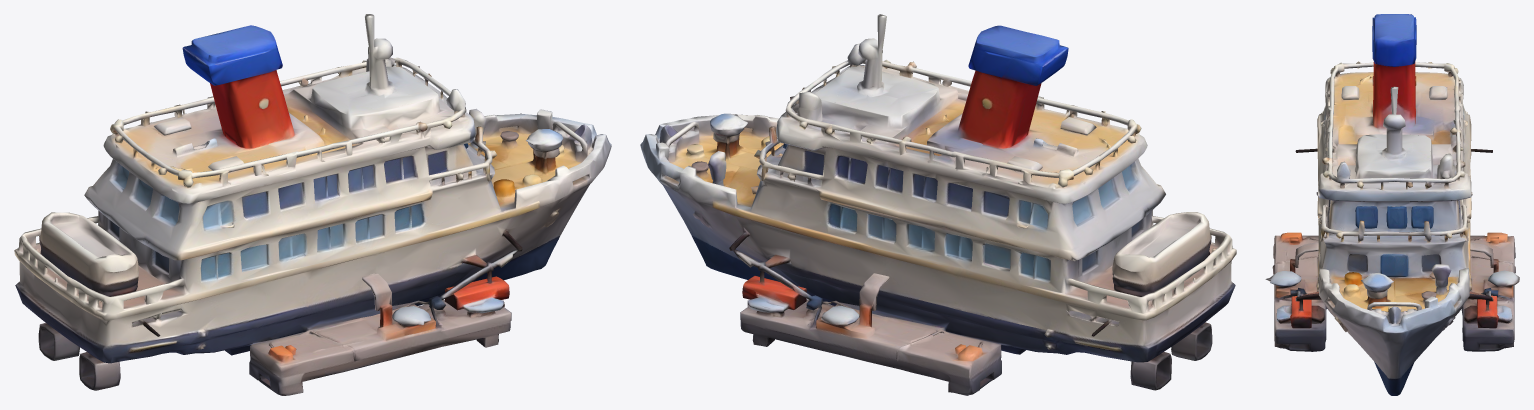
Rendered from shekou.glb.
The picture shows the model from 3 angles, left to right: view 1: azimuth 30°, elevation 25°; view 2: azimuth 150°, elevation 25°; view 3: azimuth 270°, elevation 25°; orthographic projection. The views are drawn at different scales.
Parts seen in each view (by area): view 1: tripo_node_04fcb174-4c66-434b-ab20-6fab52cff686; view 2: tripo_node_04fcb174-4c66-434b-ab20-6fab52cff686; view 3: tripo_node_04fcb174-4c66-434b-ab20-6fab52cff686.
Boxes of the visible parts, box(x1,y1,x2,y2) form: tripo_node_04fcb174-4c66-434b-ab20-6fab52cff686: box(14, 14, 611, 395); tripo_node_04fcb174-4c66-434b-ab20-6fab52cff686: box(640, 14, 1236, 395); tripo_node_04fcb174-4c66-434b-ab20-6fab52cff686: box(1265, 14, 1519, 395).
Size of the model in its own units: 1 by 0.5193 by 0.4852.
1 material, 1 textured.
